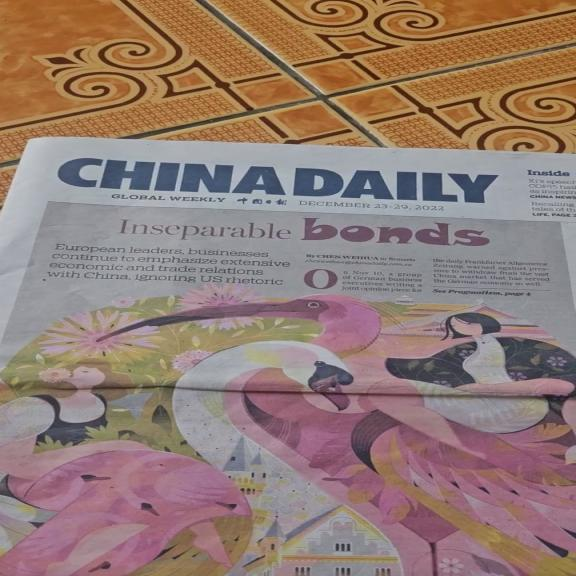Kertas: (2, 147, 570, 562)
